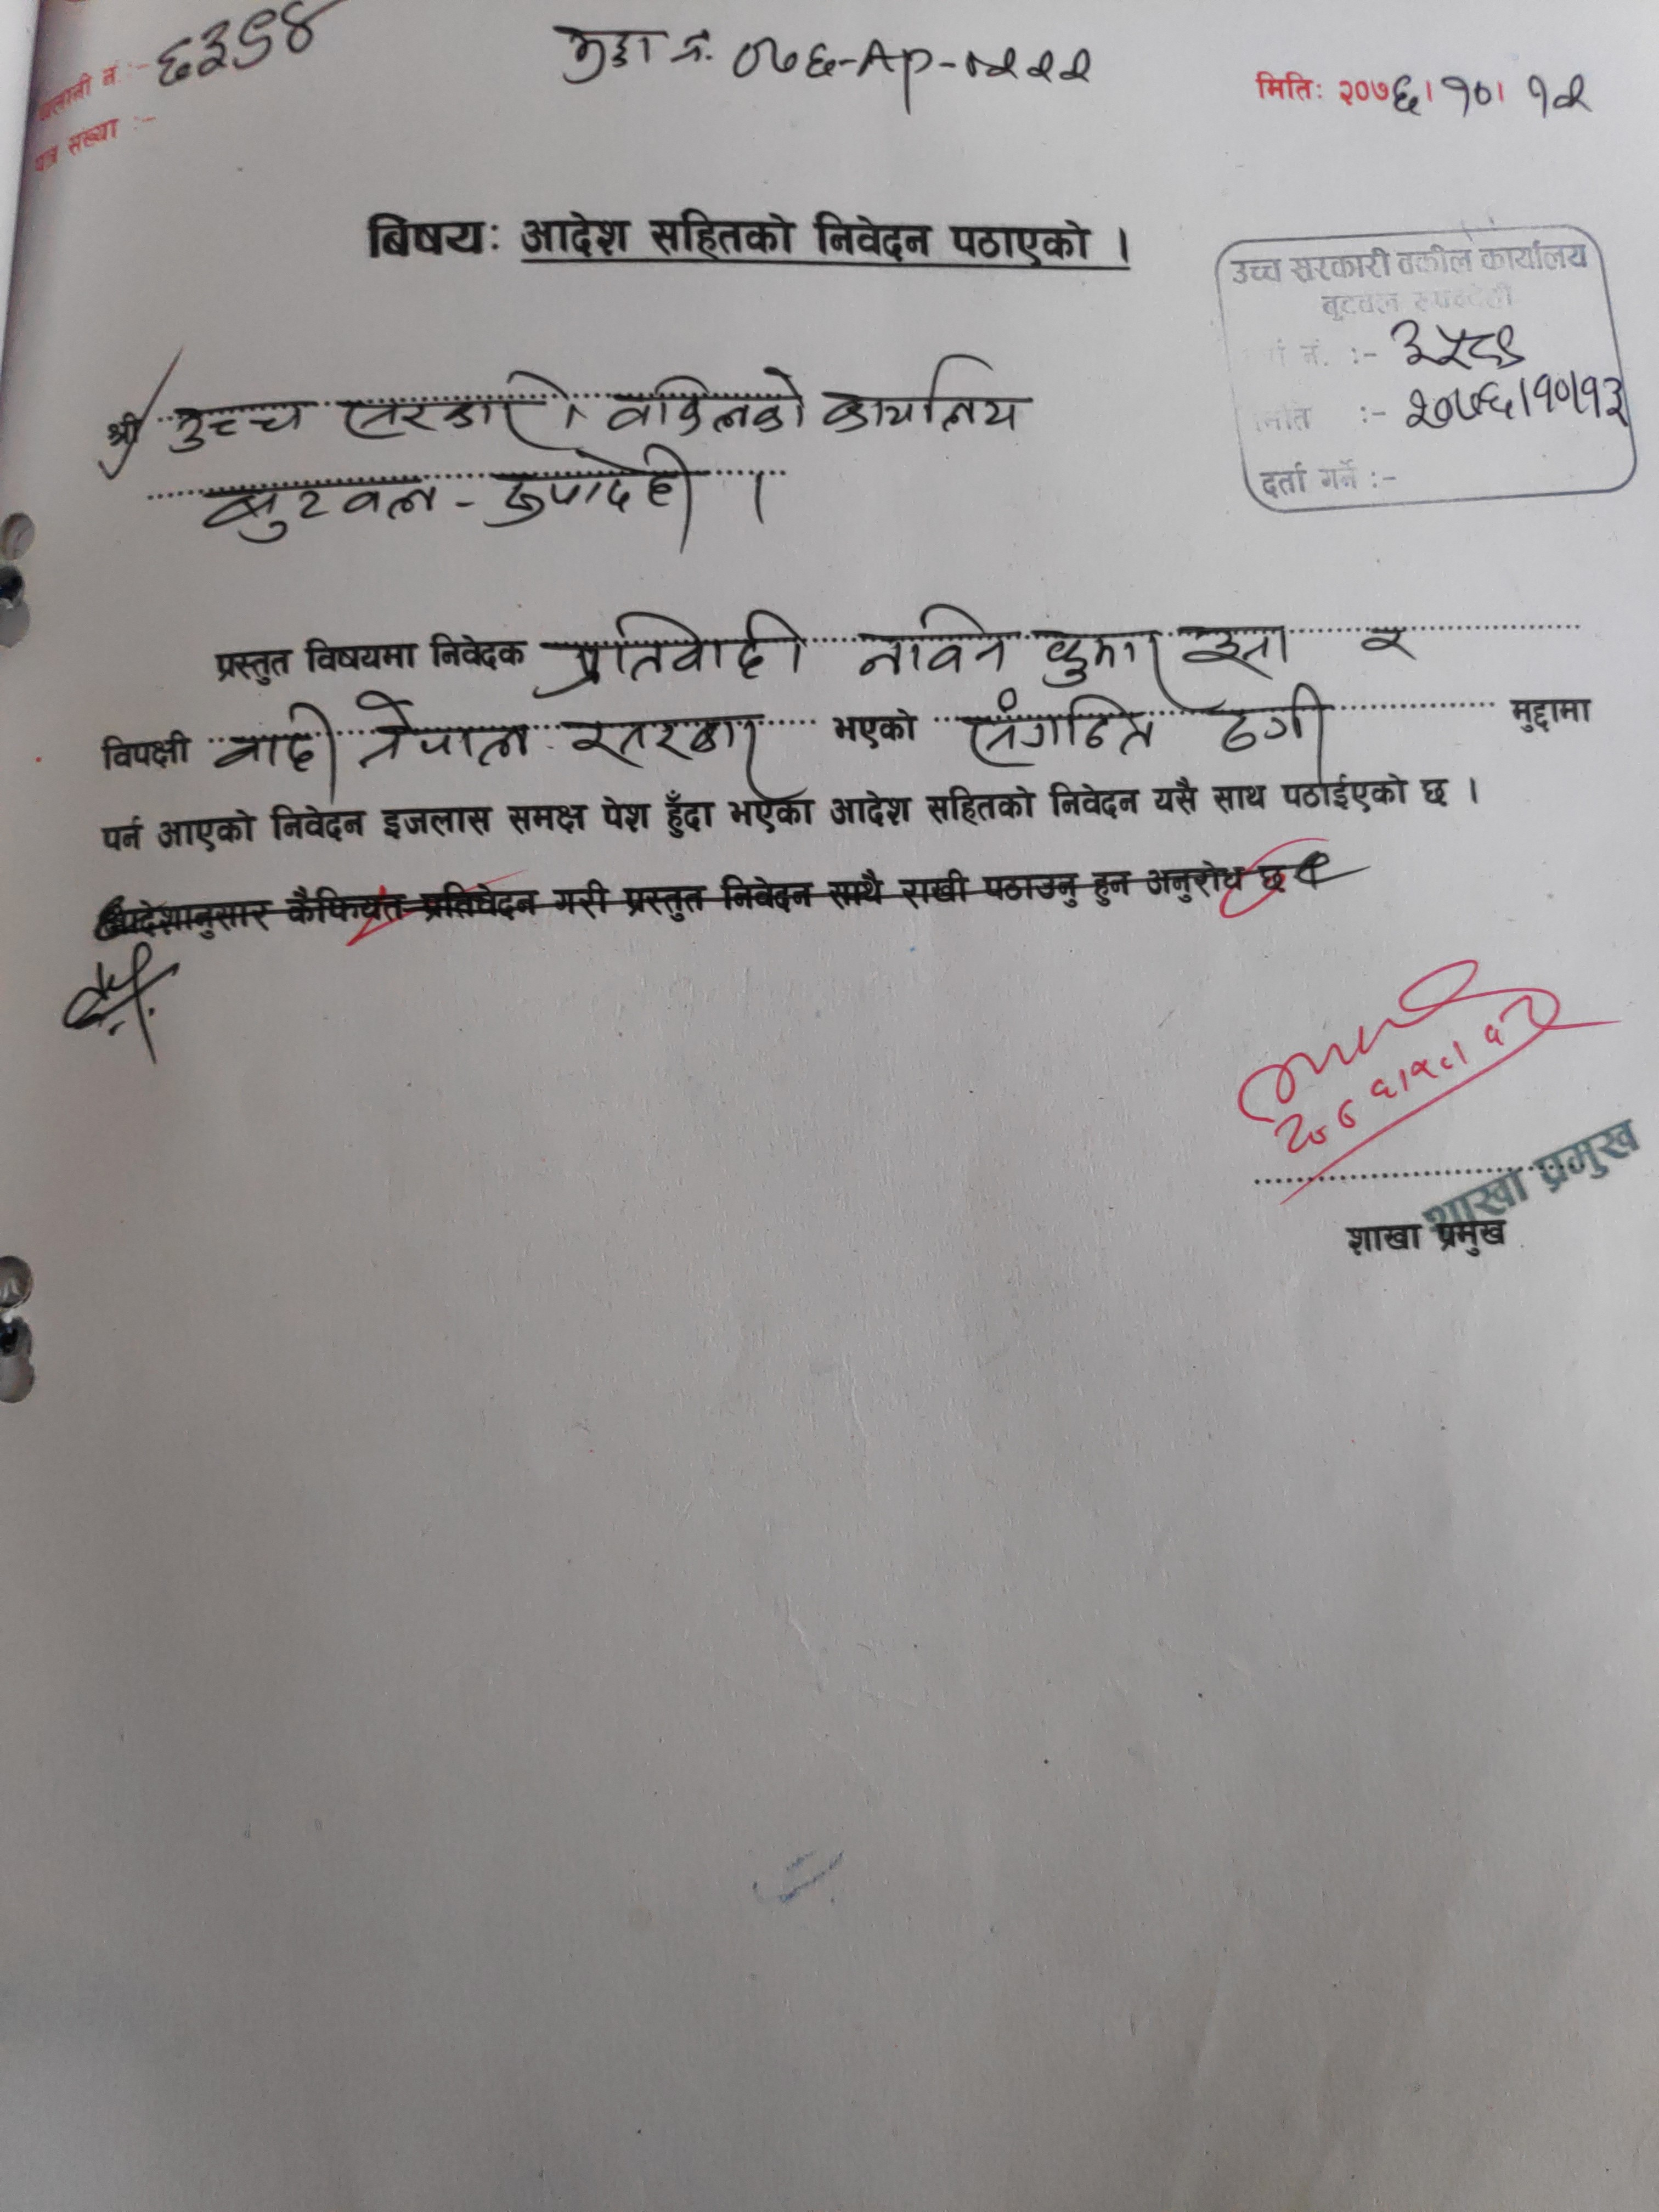text: (728, 28, 1105, 122), (537, 599, 810, 704), (477, 439, 702, 543), (335, 366, 575, 455), (817, 354, 1030, 439), (345, 683, 535, 775), (202, 470, 444, 542), (958, 686, 1162, 770), (599, 364, 816, 442), (153, 2, 329, 92), (843, 597, 1019, 686), (1403, 371, 1631, 434), (199, 700, 345, 792), (566, 711, 762, 773), (1199, 685, 1335, 768), (551, 19, 716, 87), (1392, 308, 1530, 374), (1039, 627, 1176, 693), (167, 394, 305, 458), (1183, 610, 1297, 685), (1521, 64, 1596, 122), (1356, 613, 1419, 671), (1441, 68, 1495, 124), (1387, 68, 1427, 125)
